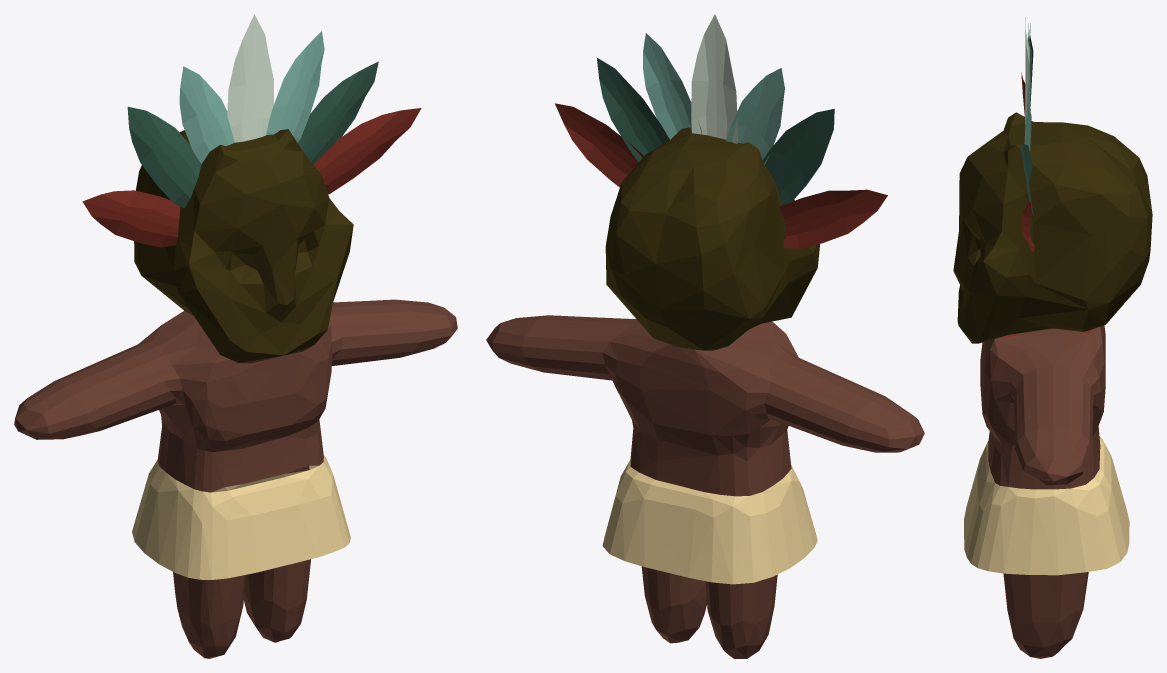
The model's file is maicao.fbx.
3 renders of one model, left to right at view 1: azimuth 30°, elevation 25°; view 2: azimuth 150°, elevation 25°; view 3: azimuth 270°, elevation 25°, orthographic.
Parts seen in each view (by area): view 1: pCube1.001; view 2: pCube1.001; view 3: pCube1.001.
Part boxes in pixels (x1=…): pCube1.001: x1=14, y1=14, x2=457, y2=658; pCube1.001: x1=486, y1=14, x2=924, y2=658; pCube1.001: x1=953, y1=17, x2=1152, y2=658.
Bounding box in the file's own units: 105 × 147 × 42.1.
Materials: 1 (1 with a texture image).
